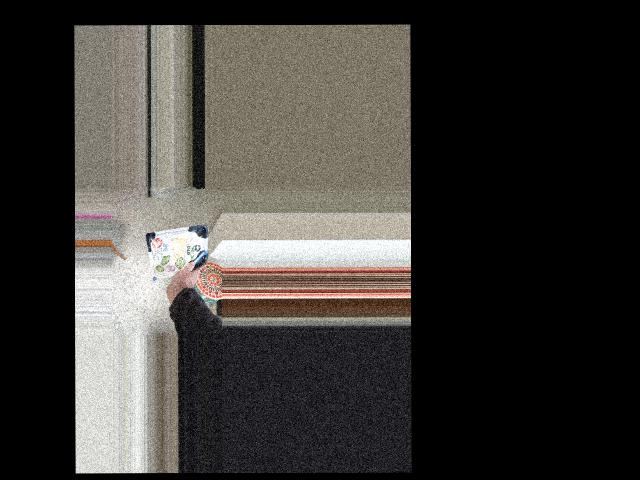cheese: (147, 240, 197, 289)
